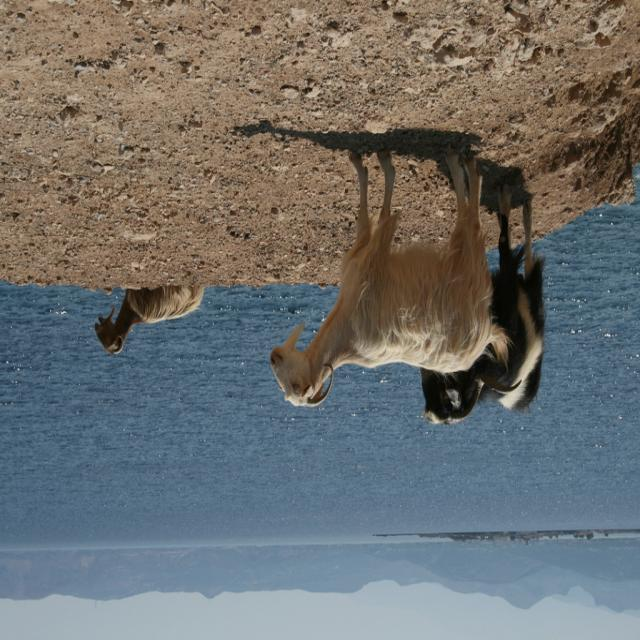Goat: (269, 146, 511, 410), (420, 183, 546, 428), (94, 284, 204, 357)
